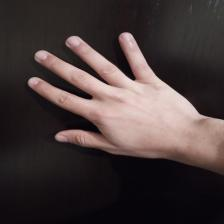five: (23, 31, 194, 158)
